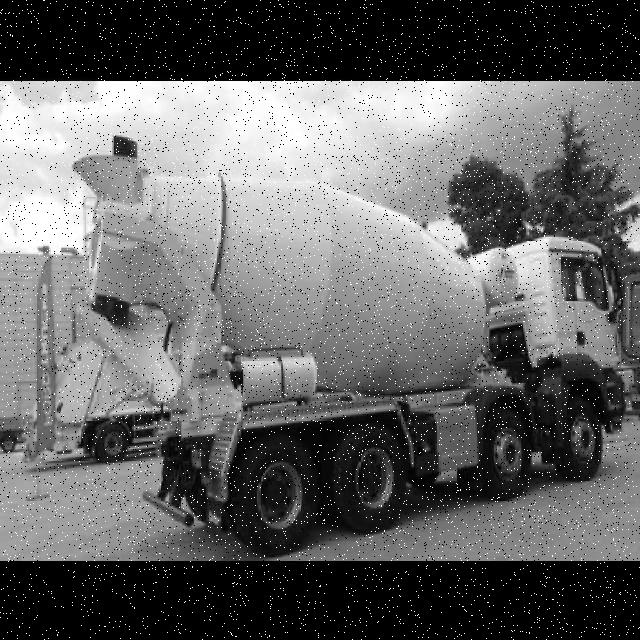Concrete Mixer: (72, 134, 626, 558)
